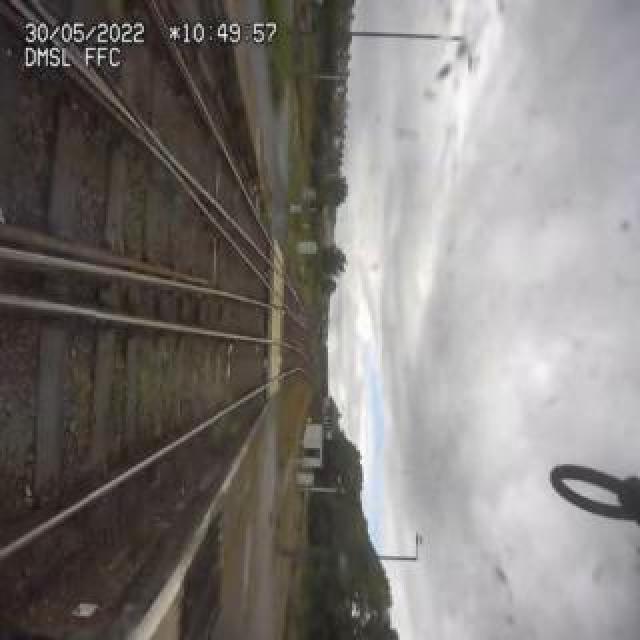rusted-track: (0, 214, 192, 276)
